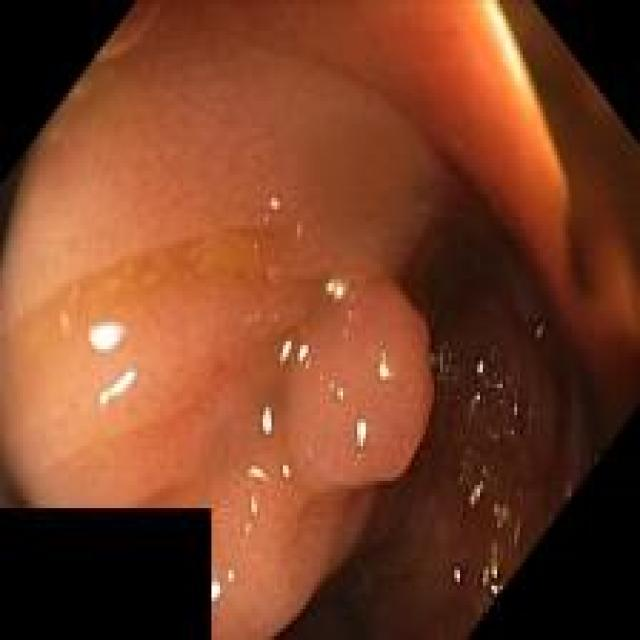Polyps: (286, 278, 432, 483)
